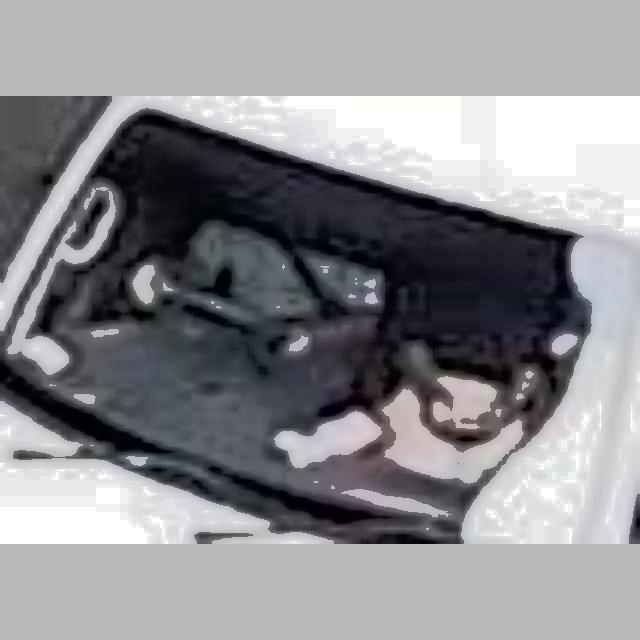pakai: (156, 198, 389, 365)
